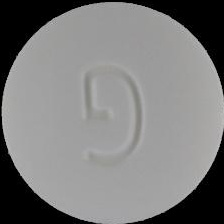0115-2011: (0, 0, 224, 224)
